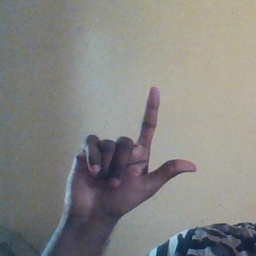L: (61, 85, 200, 219)
